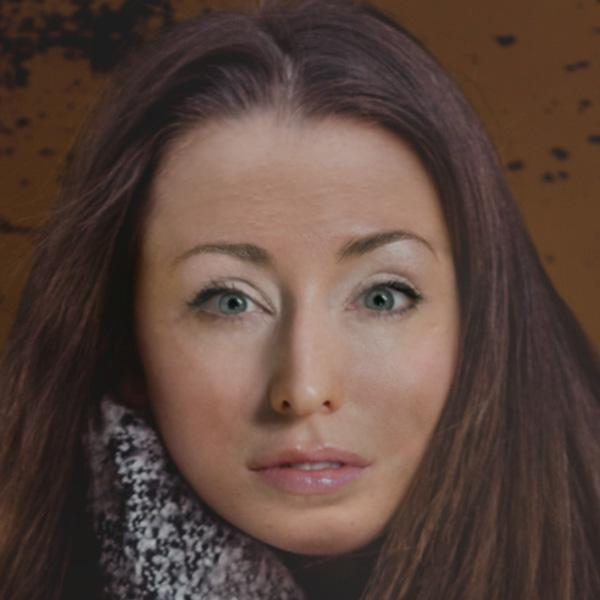Eyes: (178, 266, 281, 339), (331, 266, 431, 331)
